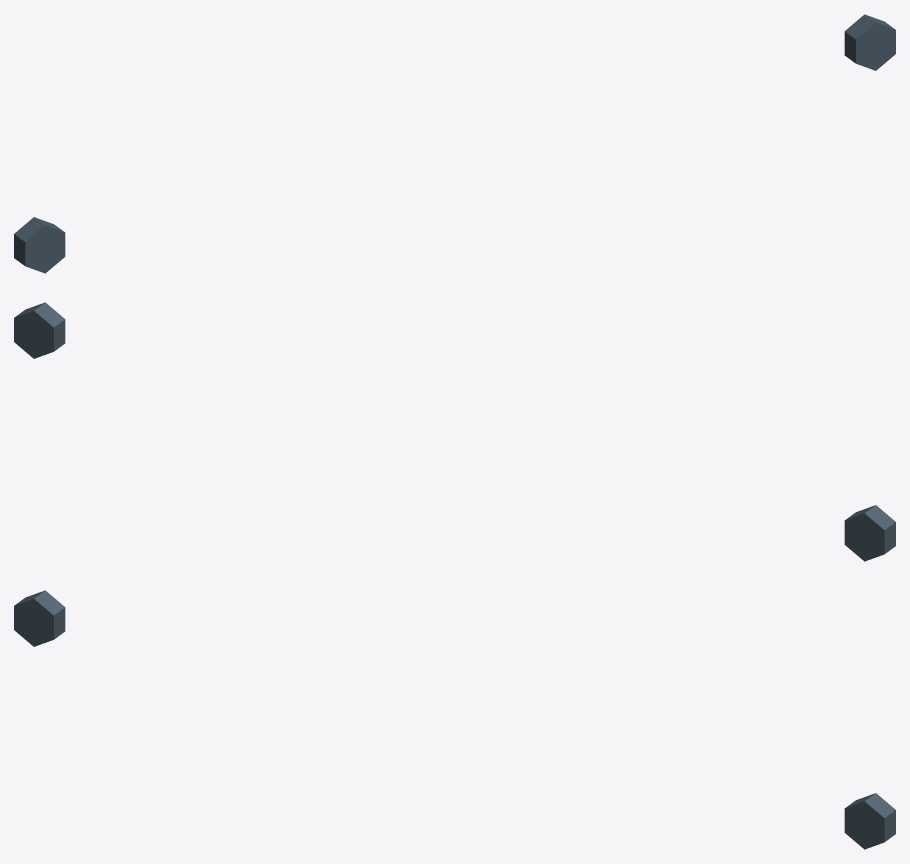
The model's file is P16-06_detail16.obj.
3 views of the same model, one above another, from view 1: azimuth 30°, elevation 25°; view 2: azimuth 150°, elevation 25°; view 3: azimuth 330°, elevation 25° (orthographic).
Visible parts, largest first — view 1: P16-06_STATIC_Steel_DETAIL16_LeftRodSeat_CaptiveBolt, P16-06_STATIC_Steel_DETAIL16_RightRodSeat_CaptiveBolt; view 2: P16-06_STATIC_Steel_DETAIL16_LeftRodSeat_CaptiveBolt, P16-06_STATIC_Steel_DETAIL16_RightRodSeat_CaptiveBolt; view 3: P16-06_STATIC_Steel_DETAIL16_LeftRodSeat_CaptiveBolt, P16-06_STATIC_Steel_DETAIL16_RightRodSeat_CaptiveBolt.
Boxes of the visible parts, left/top/right/bottom form: P16-06_STATIC_Steel_DETAIL16_LeftRodSeat_CaptiveBolt: left=14, top=217, right=65, bottom=273; P16-06_STATIC_Steel_DETAIL16_RightRodSeat_CaptiveBolt: left=844, top=14, right=895, bottom=70; P16-06_STATIC_Steel_DETAIL16_LeftRodSeat_CaptiveBolt: left=844, top=505, right=895, bottom=561; P16-06_STATIC_Steel_DETAIL16_RightRodSeat_CaptiveBolt: left=14, top=302, right=65, bottom=358; P16-06_STATIC_Steel_DETAIL16_LeftRodSeat_CaptiveBolt: left=14, top=590, right=65, bottom=646; P16-06_STATIC_Steel_DETAIL16_RightRodSeat_CaptiveBolt: left=844, top=793, right=895, bottom=849.
Bounding box in the file's own units: 0.2641 × 0.014 × 0.006.
